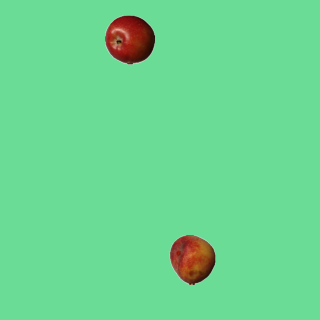Apple Braeburn: (104, 14, 154, 64)
Peach: (167, 234, 217, 284)
